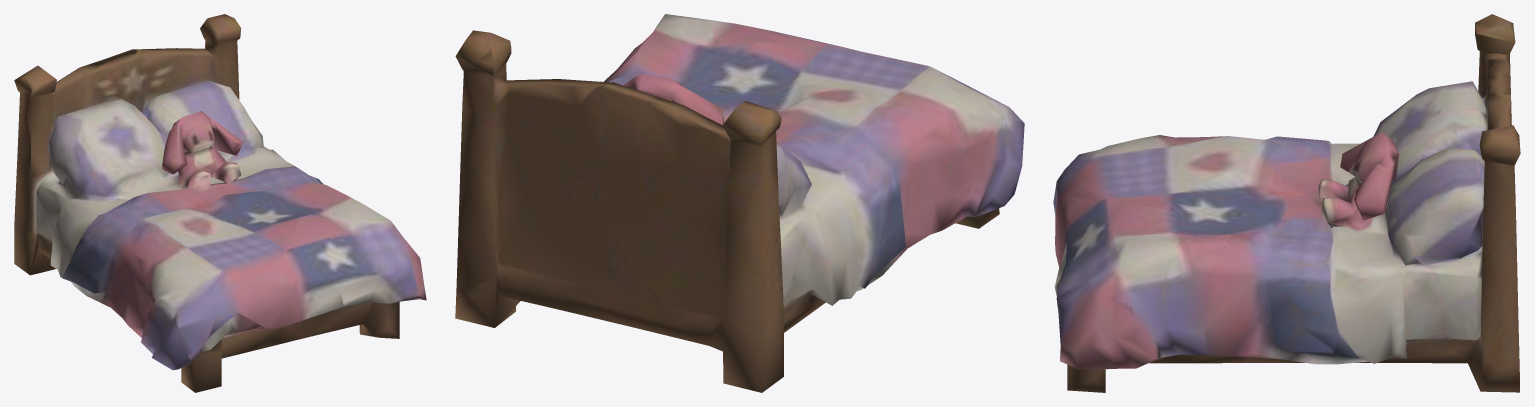
The model's file is bed.glb.
3 renders of one model, left to right at view 1: azimuth 30°, elevation 25°; view 2: azimuth 150°, elevation 25°; view 3: azimuth 270°, elevation 25°, orthographic. The views are drawn at different scales.
Parts seen in each view (by area): view 1: tripo_node_8d4649f7-7930-42b6-8521-bd907e2fe418; view 2: tripo_node_8d4649f7-7930-42b6-8521-bd907e2fe418; view 3: tripo_node_8d4649f7-7930-42b6-8521-bd907e2fe418.
Boxes of the visible parts, left/top/right/bottom form: tripo_node_8d4649f7-7930-42b6-8521-bd907e2fe418: left=14, top=14, right=426, bottom=392; tripo_node_8d4649f7-7930-42b6-8521-bd907e2fe418: left=455, top=14, right=1024, bottom=392; tripo_node_8d4649f7-7930-42b6-8521-bd907e2fe418: left=1053, top=14, right=1520, bottom=392.
Bounding box in the file's own units: 0.8276 × 0.6137 × 1.
Materials: 1 (1 with a texture image).
